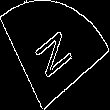N_SW: (31, 25, 79, 85)
